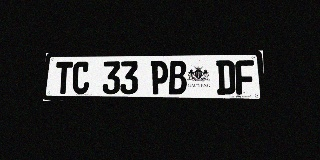3: (102, 61, 120, 94), (120, 61, 138, 94)
B: (169, 61, 187, 94)
C: (72, 61, 90, 94)
D: (216, 60, 236, 95)
F: (235, 60, 255, 95)
P: (150, 61, 168, 94)
T: (55, 62, 73, 94)
